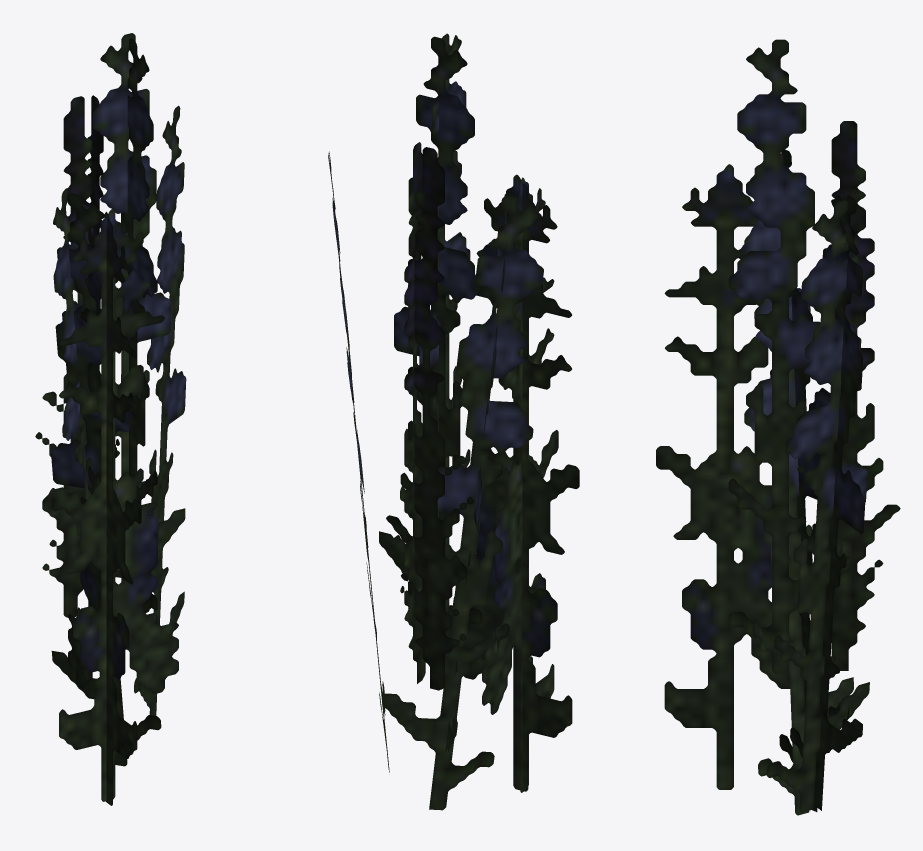
The model's file is SM_EC_Plant_Bush_04.fbx.
3 views of the same model, side by side, from view 1: azimuth 30°, elevation 25°; view 2: azimuth 150°, elevation 25°; view 3: azimuth 270°, elevation 25° (orthographic). The views are drawn at different scales.
Visible parts, largest first — view 1: SM_EC_Plant_Bush_04; view 2: SM_EC_Plant_Bush_04; view 3: SM_EC_Plant_Bush_04.
Boxes of the visible parts, x1,y1,x2,y2 form: SM_EC_Plant_Bush_04: [35, 33, 186, 805]; SM_EC_Plant_Bush_04: [328, 33, 579, 810]; SM_EC_Plant_Bush_04: [656, 39, 900, 815].
Bounding box in the file's own units: 0.554 × 0.5037 × 1.56.
